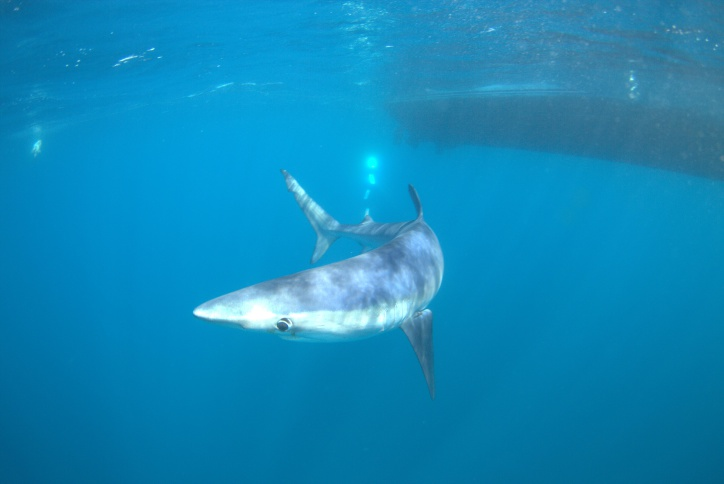Azul: (177, 160, 477, 421)
